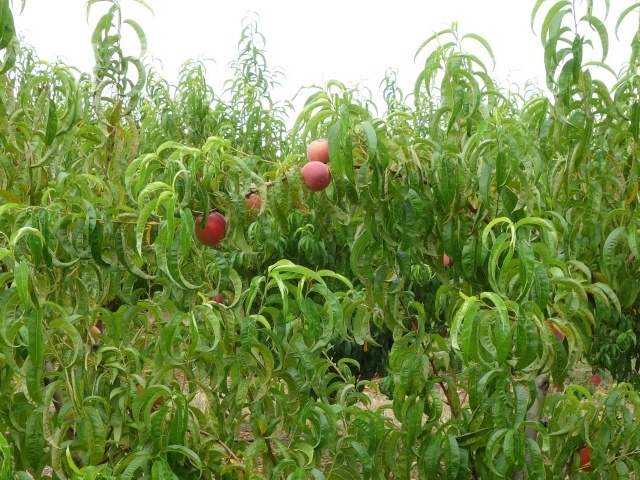peach: (192, 210, 231, 248), (299, 159, 334, 194), (303, 135, 336, 170), (239, 190, 265, 223), (574, 442, 600, 473)
